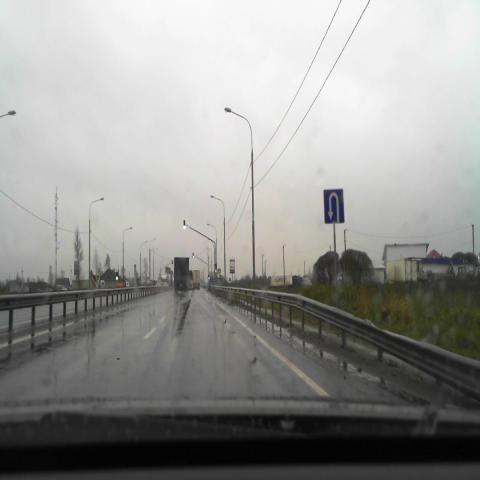6_3_1: (324, 188, 344, 224)
